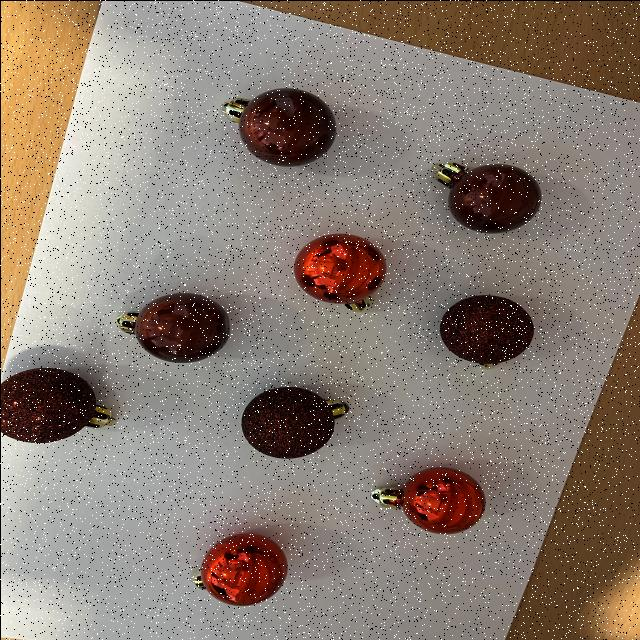glitter-bauble: (220, 382, 356, 462), (0, 364, 126, 448), (431, 290, 542, 374), (0, 366, 117, 442), (240, 385, 348, 457), (439, 293, 533, 368)
glossy-bauble: (366, 461, 492, 538), (184, 528, 298, 611), (289, 230, 391, 316), (369, 466, 485, 533), (292, 231, 386, 311), (192, 532, 287, 605)
wine-red-bauble: (214, 79, 347, 173), (109, 287, 239, 367), (428, 157, 548, 237), (221, 87, 335, 166), (114, 291, 229, 362), (430, 161, 541, 233)
